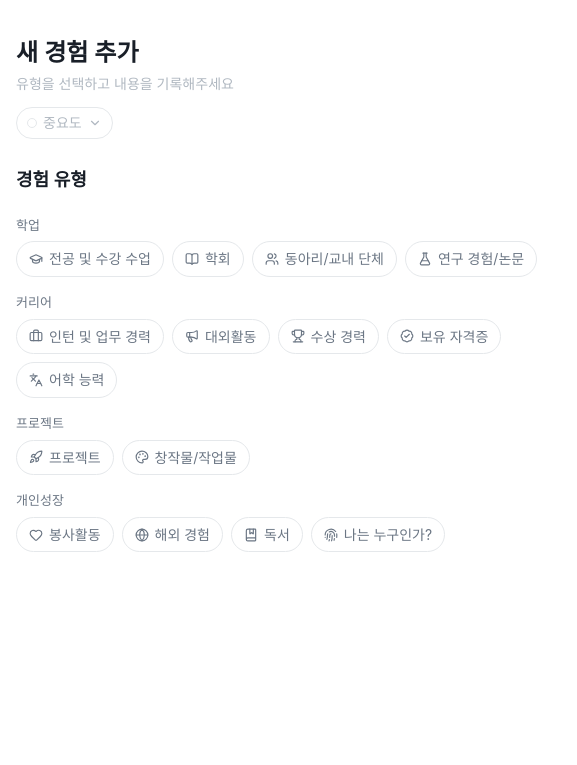
FRT-177 섹션 안내 문구 › 문구를 지정하지 않은 유형은 기존 공통 안내를 그대로 쓴다
Click the button "학회". click: (208, 259)
box: [172,242,244,277]
(page scrolled)
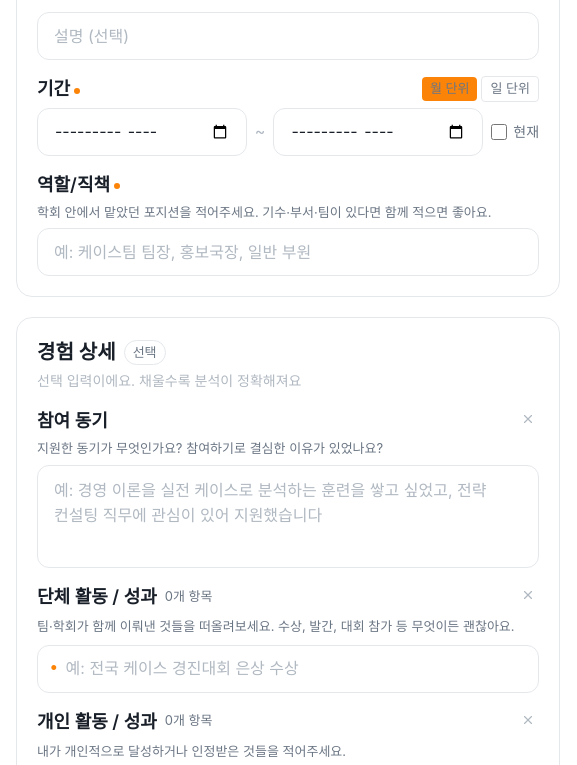
Now the text "선택 입력이에요. 채울수록 분석이 정확해져요" is shown, box [37,372,302,390]
